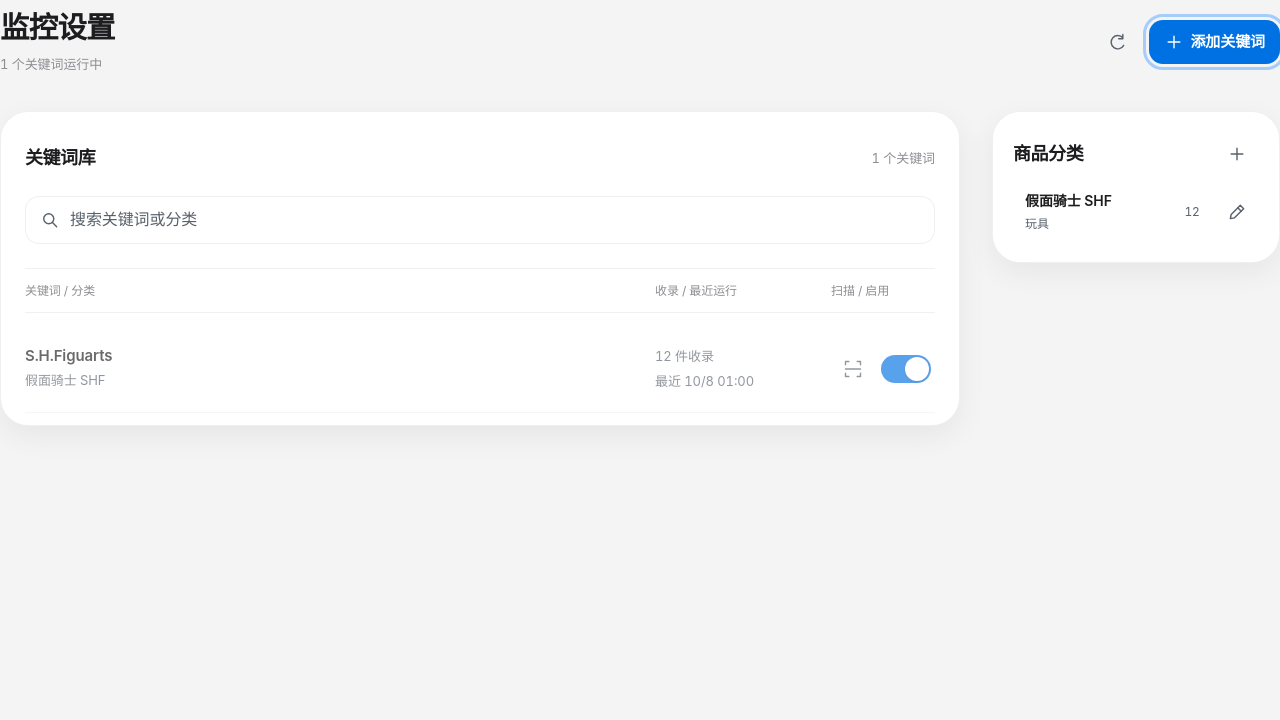
Test: MonitoringConfigWorkspace › supports focus trapping, Escape, touch backdrop dismissal and opening a second small dialog
Click the button "添加关键词" at x=1214, y=42, box top-left (1149, 20), bottom-right (1279, 64)
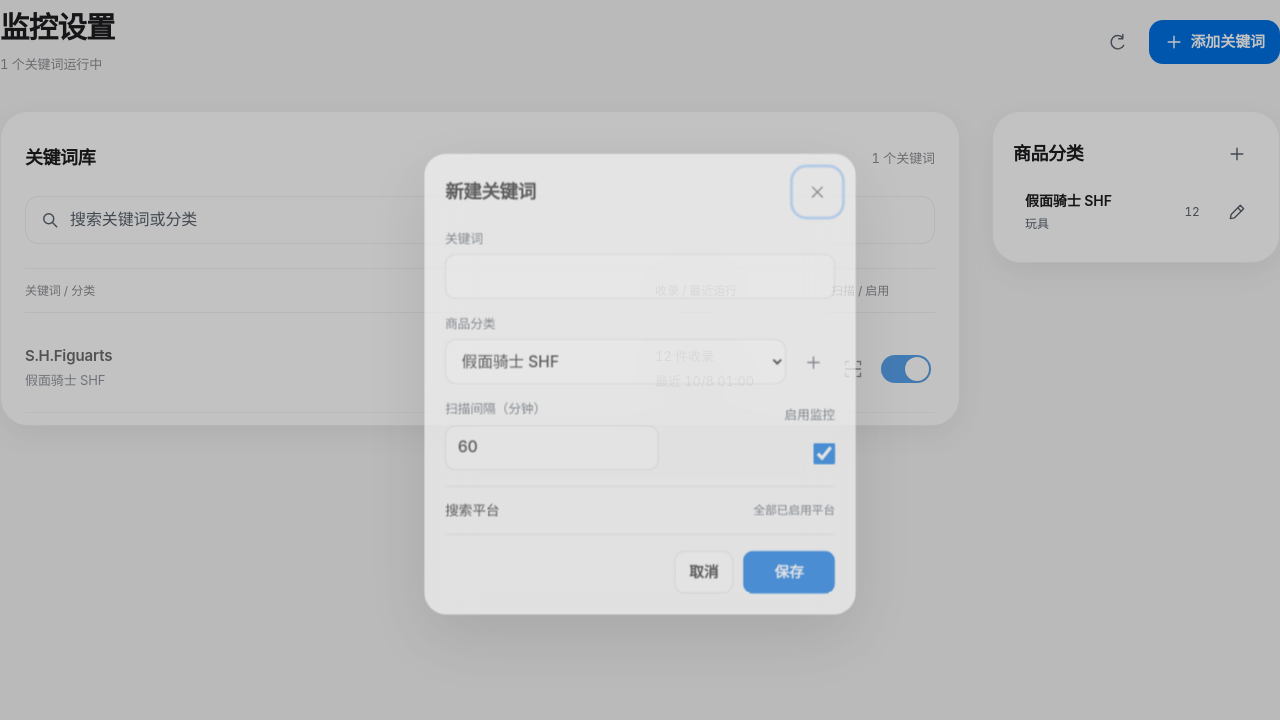
Click the button named "新建商品分类" at x=813, y=363, box top-left (792, 342), bottom-right (835, 385)
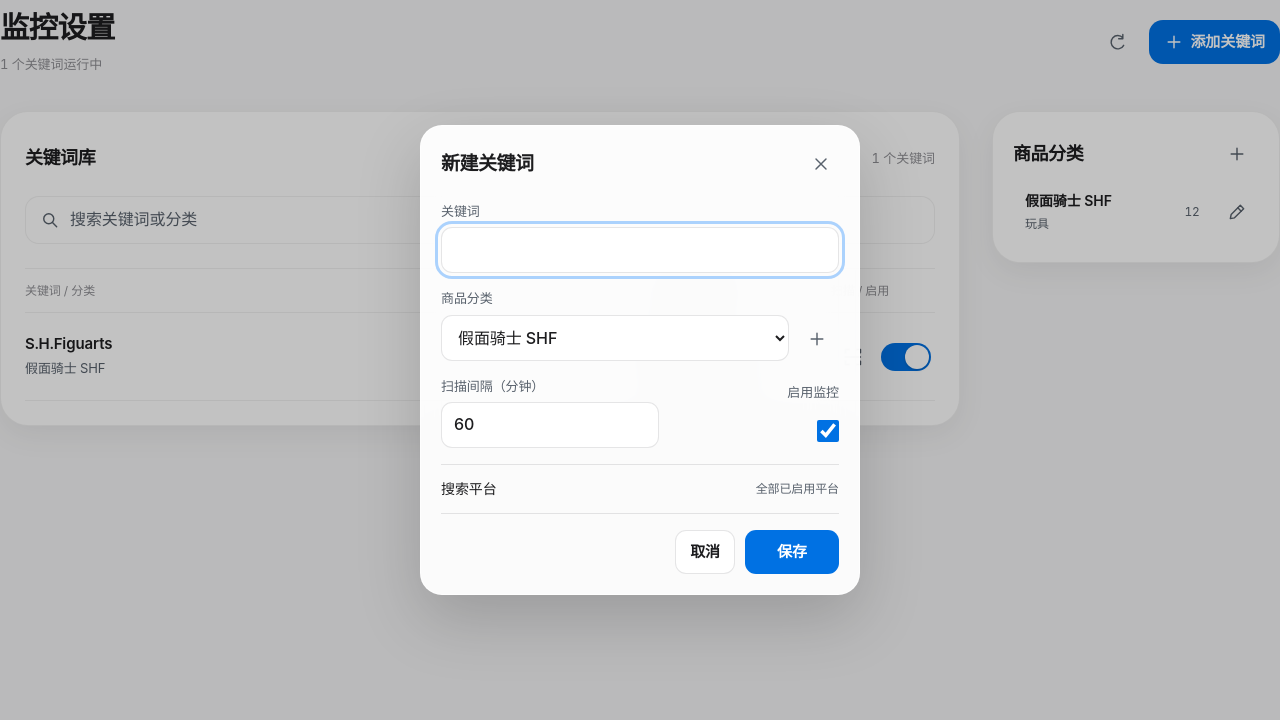
Expected: the field labelled "关键词" is shown, top-left (441, 227), bottom-right (839, 273)
Expected: the number of elements with class "mcfg-backdrop" is 1
Press the mouse on the element with class "mcfg-backdrop" at x=640, y=360, box top-left (0, 0), bottom-right (1279, 719)
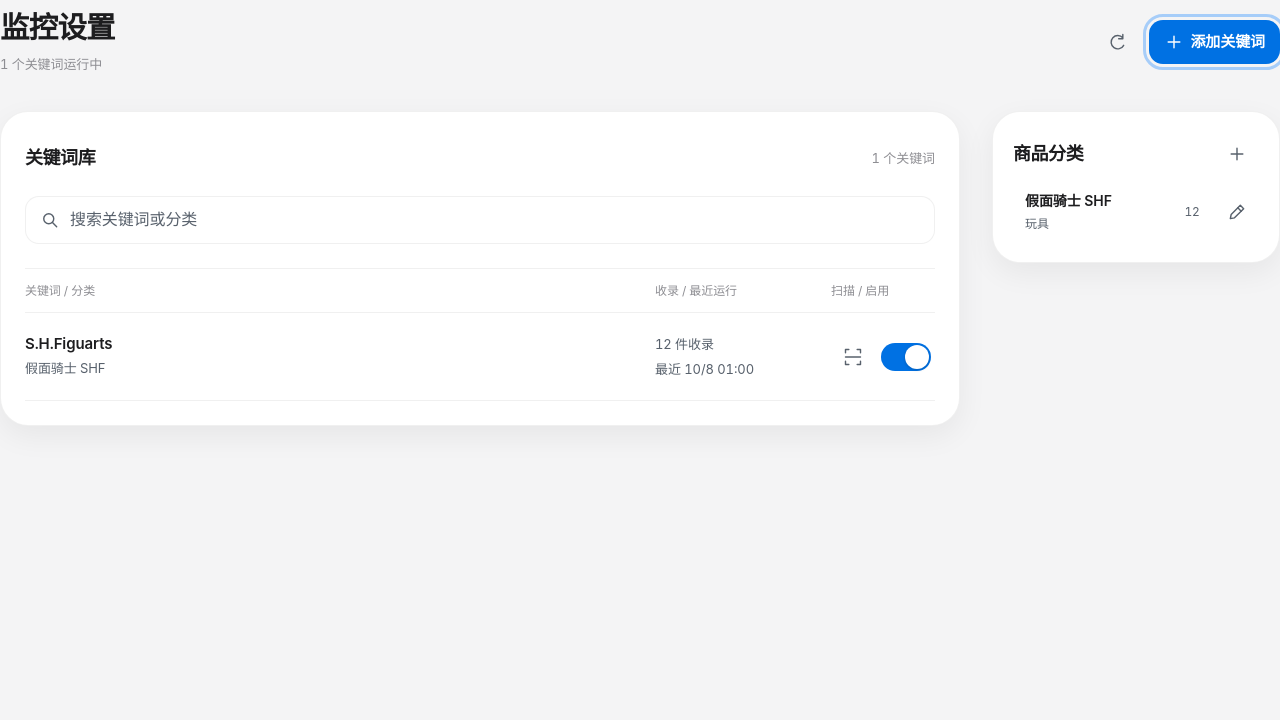
Expected: the dialog is gone
